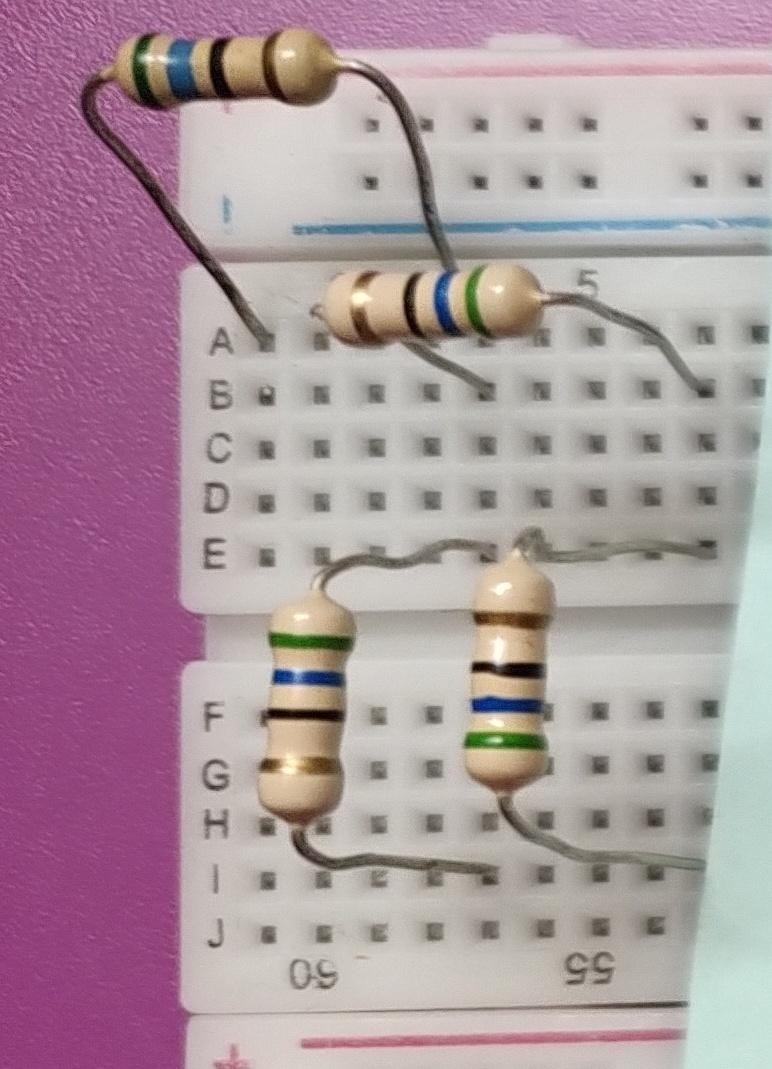resistor: (245, 583, 359, 839), (455, 553, 566, 810), (311, 255, 558, 352), (107, 27, 348, 113)
